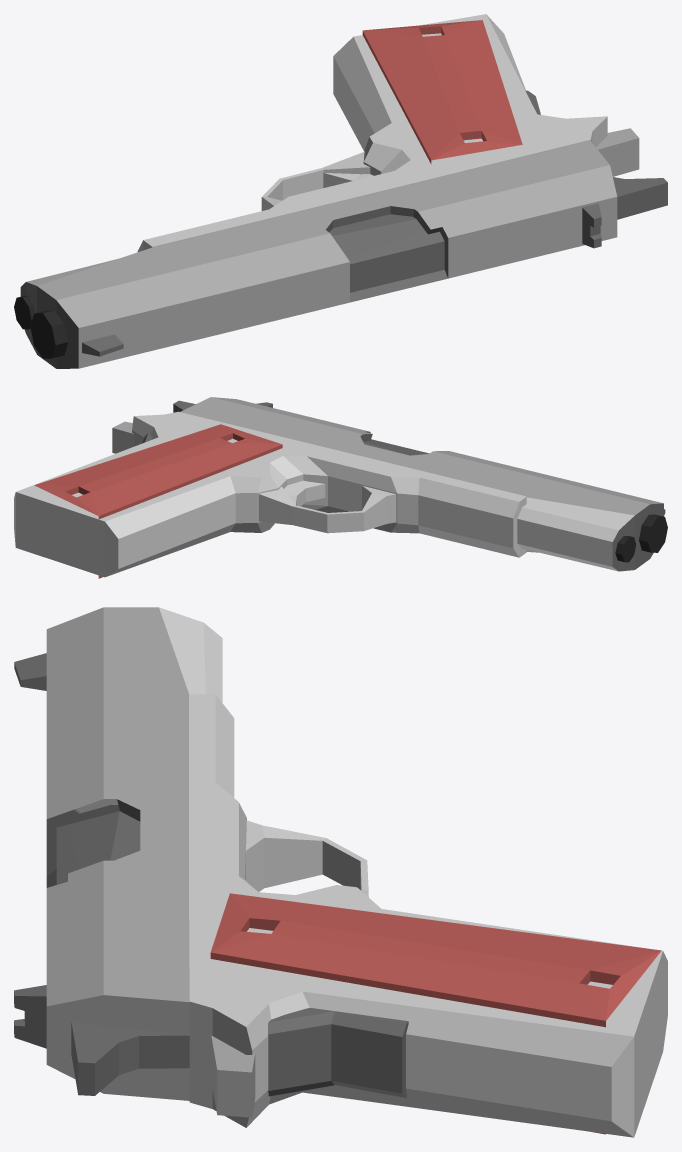
3 views of the same model, one above another, from view 1: azimuth 30°, elevation 25°; view 2: azimuth 150°, elevation 25°; view 3: azimuth 270°, elevation 25° (orthographic). The views are drawn at different scales.
Parts seen in each view (by area): view 1: 1911LowPoly; view 2: 1911LowPoly; view 3: 1911LowPoly.
Part boxes in pixels (box(x1,y1,x2,y2)): 1911LowPoly: box(14, 14, 667, 368); 1911LowPoly: box(14, 397, 667, 578); 1911LowPoly: box(14, 607, 667, 1137).
Size of the model in its own units: 0.348 by 0.0447 by 0.2154.
Materials: 1 (1 with a texture image).
